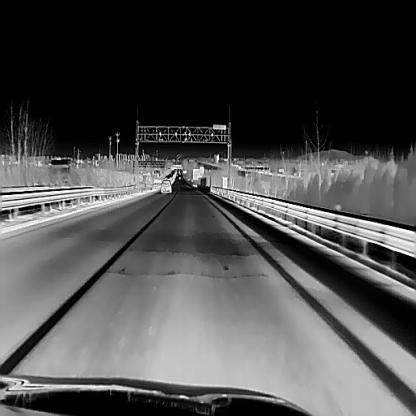car: (160, 179, 171, 193)
